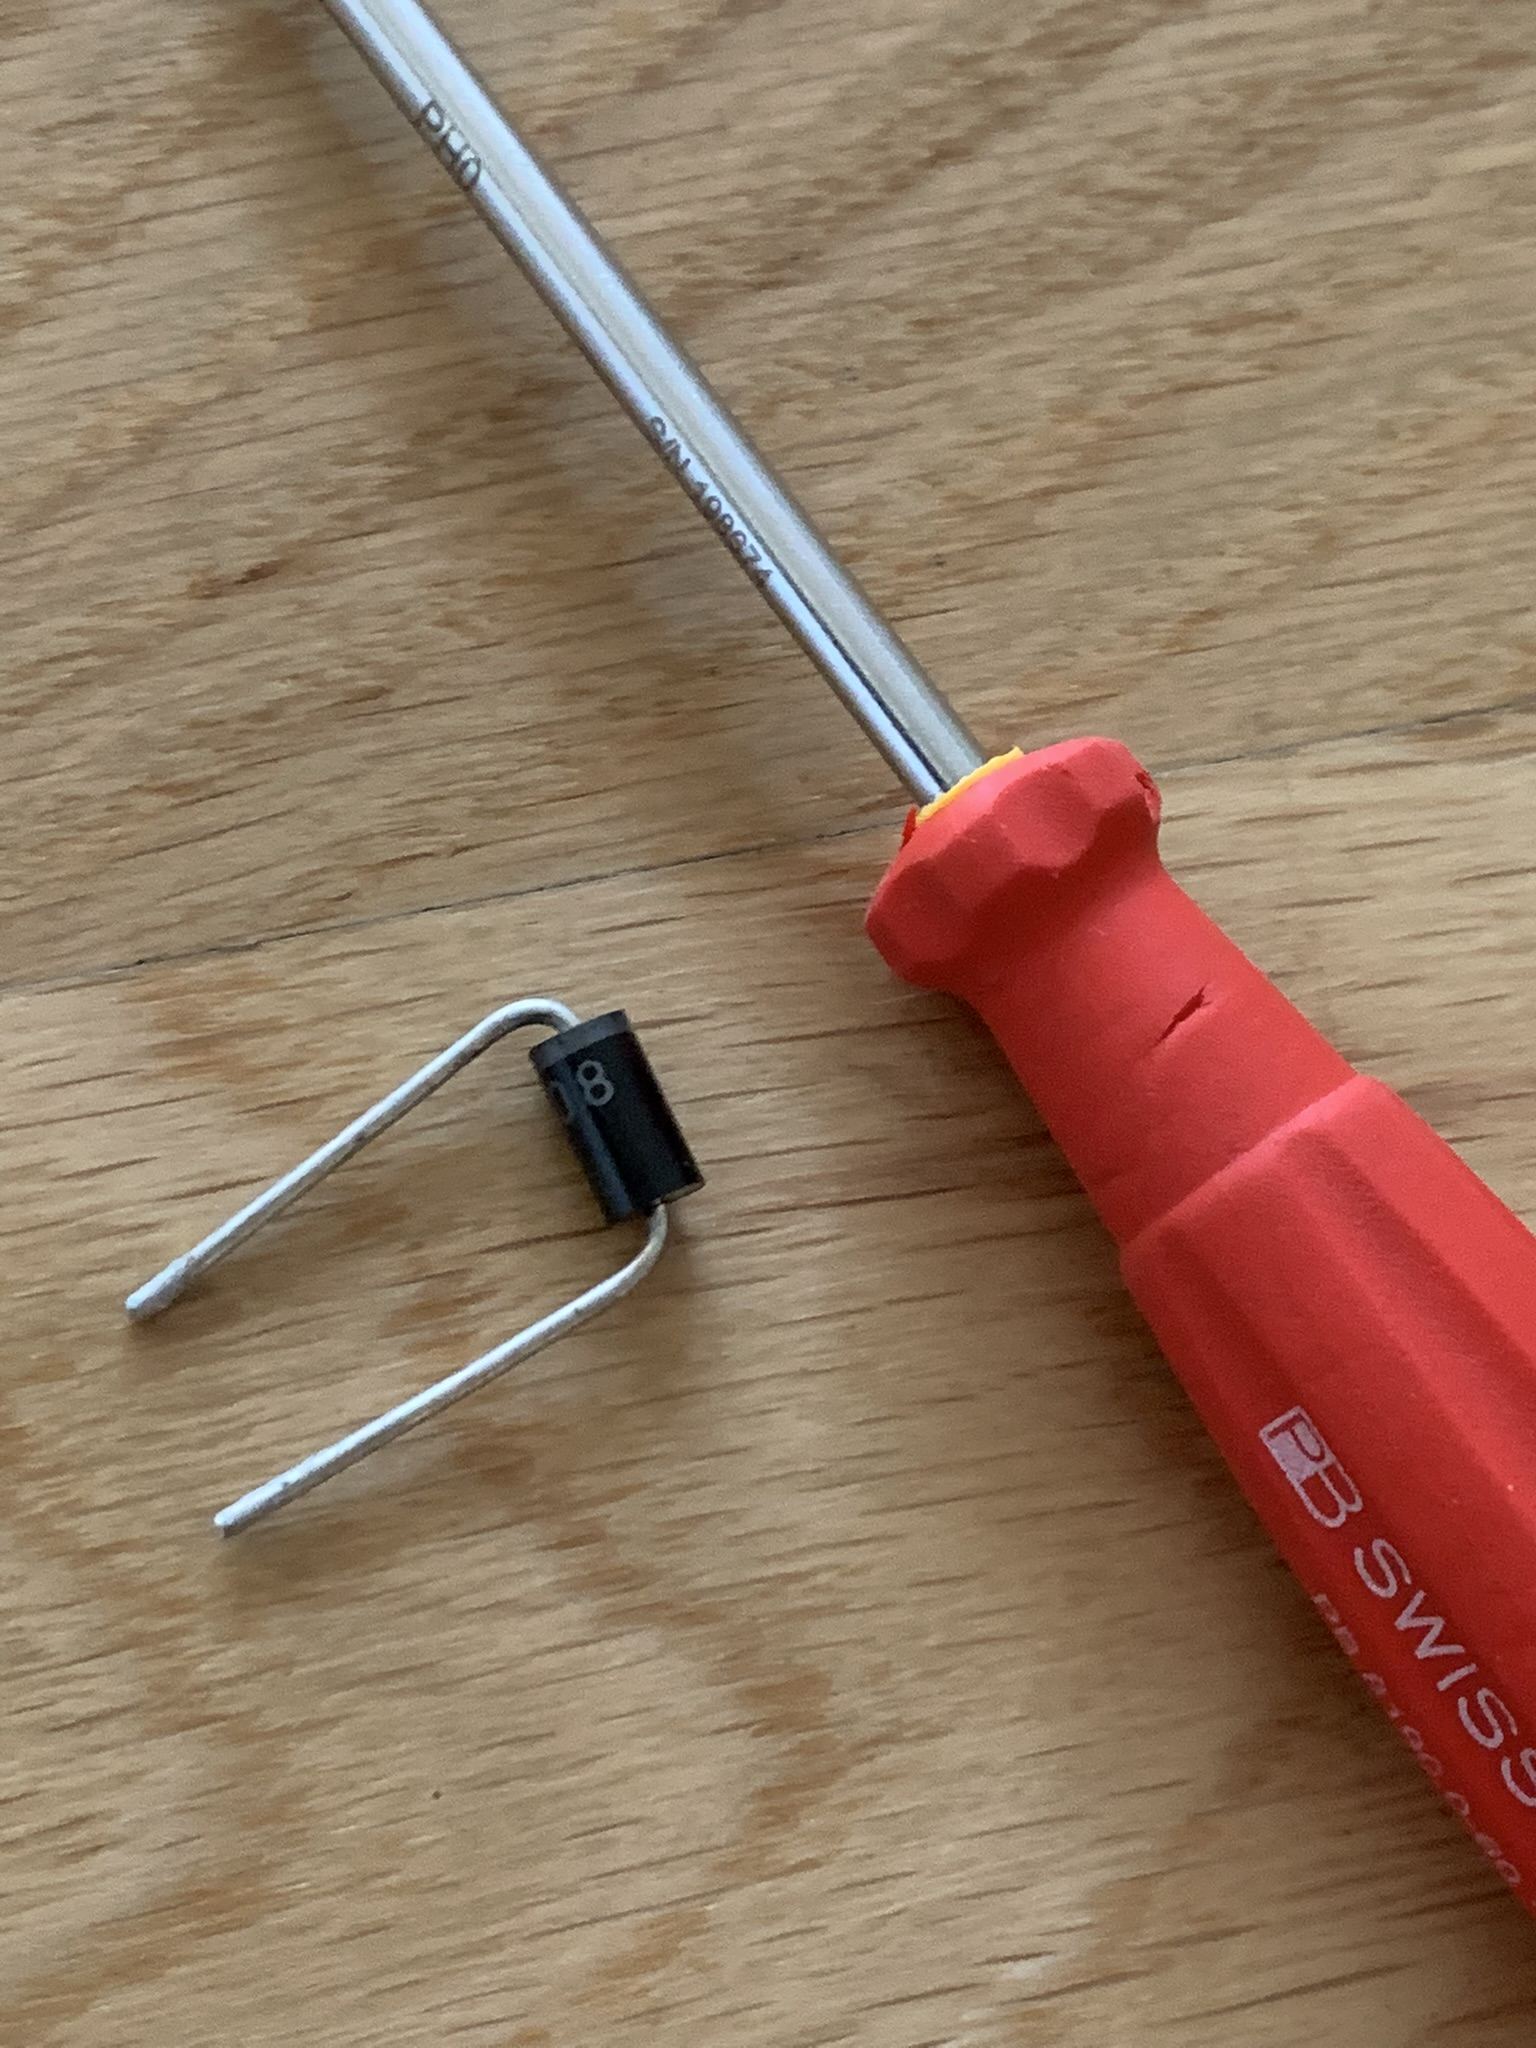diode_thd: (528, 1008, 705, 1226)
